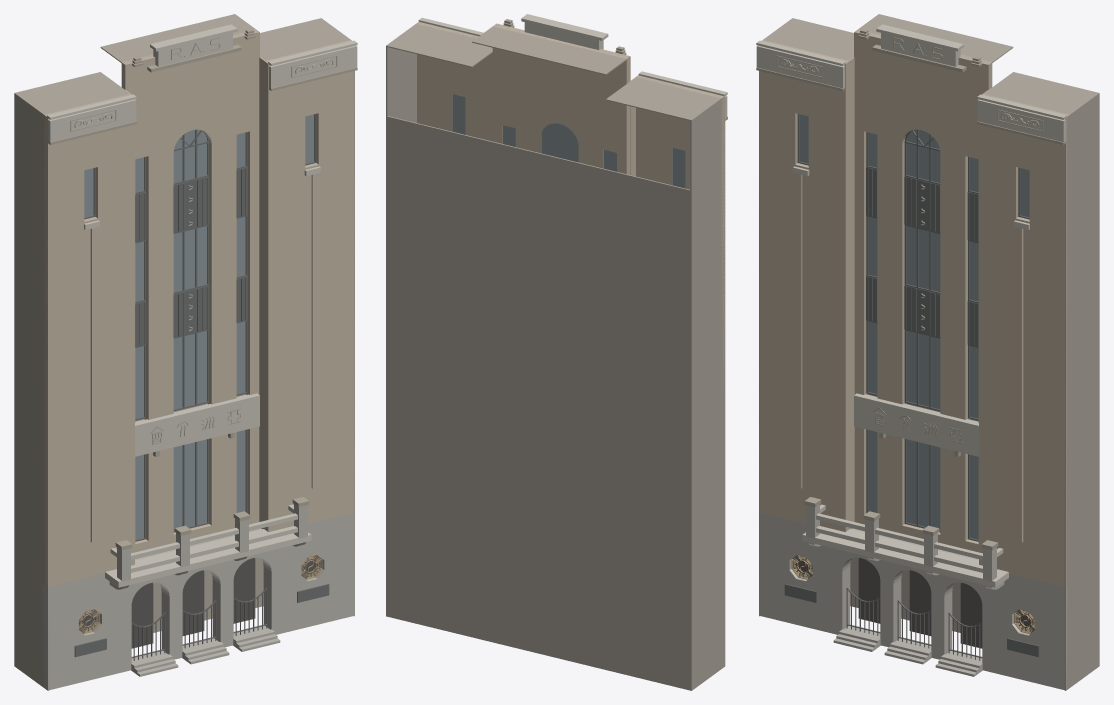
The model's file is huangpu-royal-asiatic-society-huqiu-front-lod.glb.
3 renders of one model, left to right at view 1: azimuth 30°, elevation 25°; view 2: azimuth 150°, elevation 25°; view 3: azimuth 330°, elevation 25°, orthographic.
Visible parts, largest first — view 1: 原亚洲文会博物院虎丘路立面; view 2: 原亚洲文会博物院虎丘路立面; view 3: 原亚洲文会博物院虎丘路立面.
Part boxes in pixels (x1,y1,x2,y2): 原亚洲文会博物院虎丘路立面: (14,14,357,690); 原亚洲文会博物院虎丘路立面: (386,14,727,690); 原亚洲文会博物院虎丘路立面: (756,14,1099,690).
Bounding box in the file's own units: 12.28 × 23.36 × 3.3.
